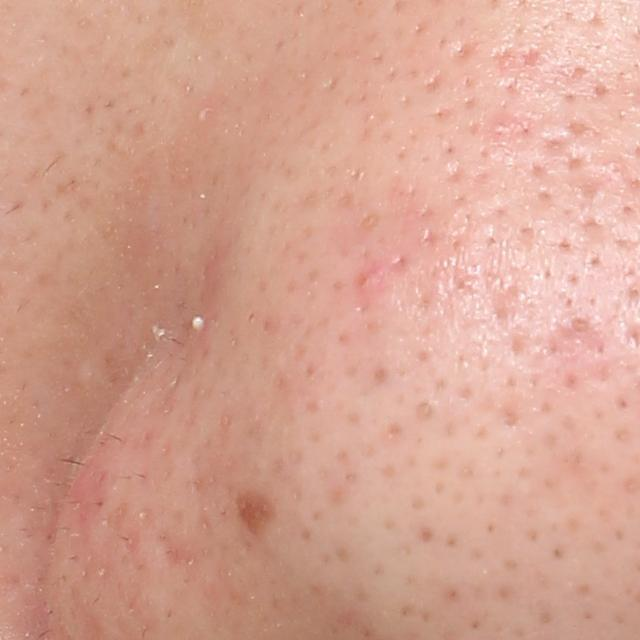atrophic_scar: (446, 36, 486, 64)
nevus: (227, 482, 280, 552)
pustule: (179, 306, 211, 337)
